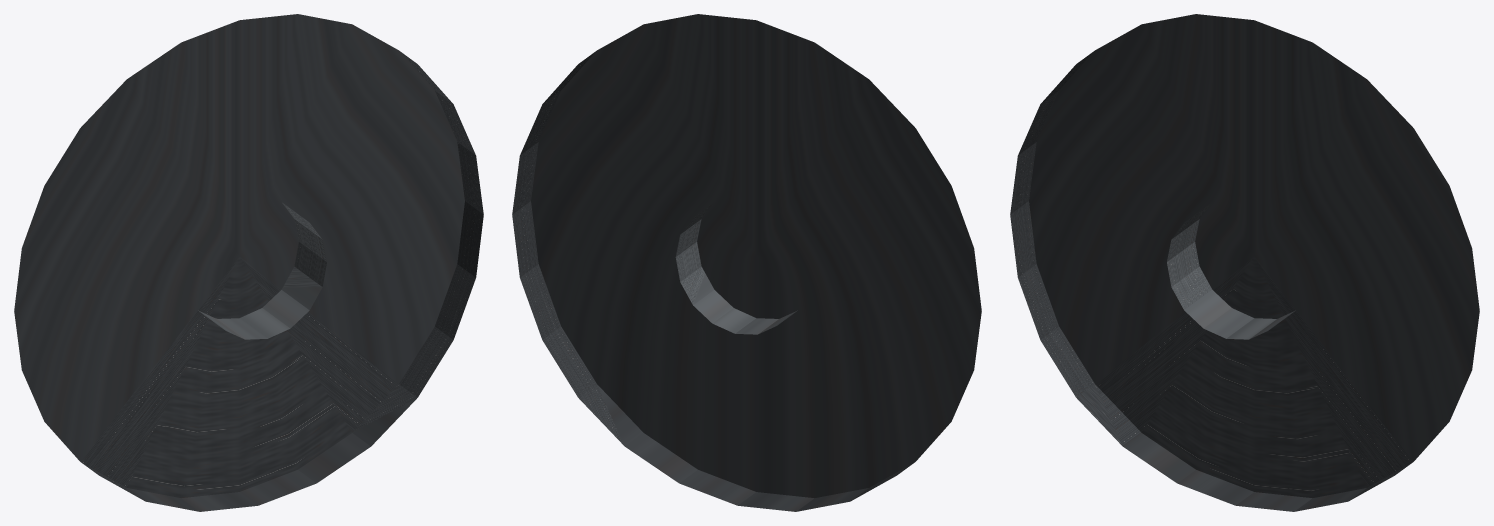
Rendered from round_shield.glb.
3 views of the same model, side by side, from view 1: azimuth 30°, elevation 25°; view 2: azimuth 150°, elevation 25°; view 3: azimuth 330°, elevation 25° (orthographic).
Parts seen in each view (by area): view 1: round_shield; view 2: round_shield; view 3: round_shield.
Part boxes in pixels (box(x1,y1,x2,y2)): round_shield: box(14, 14, 483, 511); round_shield: box(512, 14, 981, 511); round_shield: box(1010, 14, 1479, 511).
Bounding box in the file's own units: 0.76 × 0.76 × 0.09.
2 materials, 2 textured.
